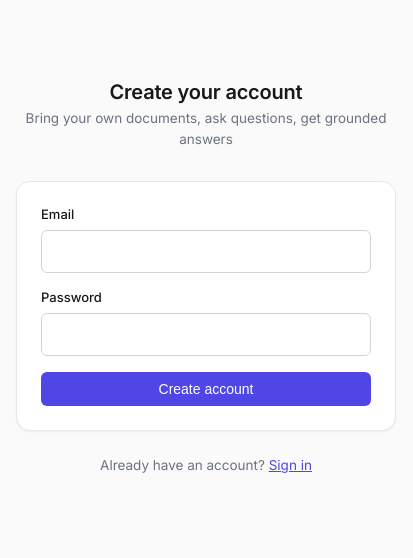
Test: RegisterPage › blocks submission and shows an error for a password that fails the complexity rules
This screenshot has width=413, height=558.
Type "user@example.com" into the field labelled "Email". click: (206, 252)
box: [41,230,371,274]
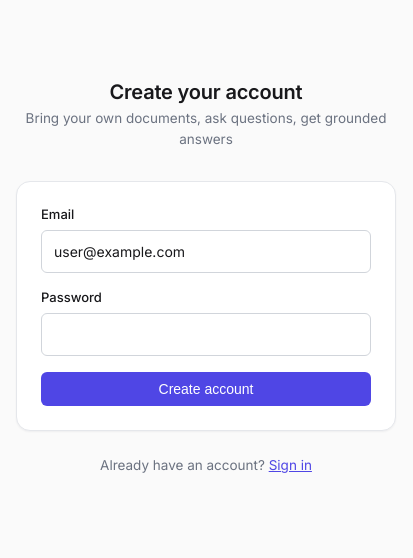
Type "weak" into the password field labelled "Password". click: (206, 335)
box: [41,314,371,356]
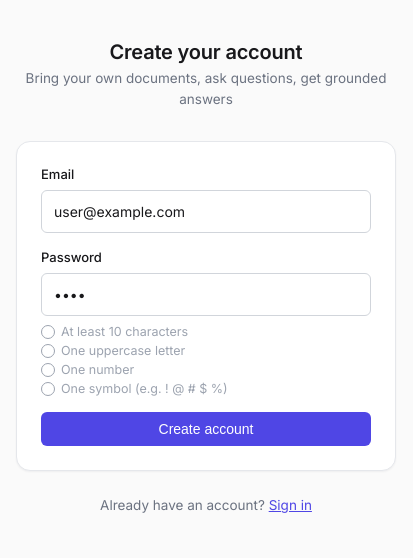
Click the button "Create account". click: click(206, 430)
box: [41,412,371,446]
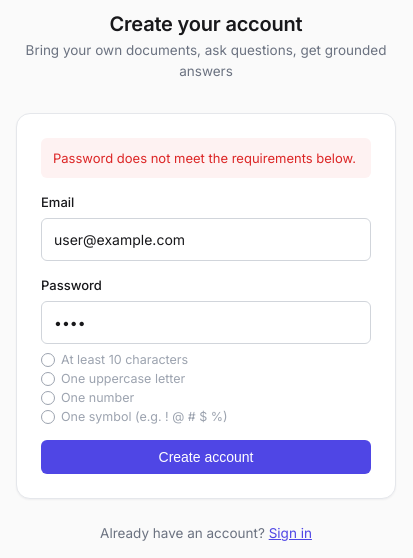
Check: the text "Password does not meet the requirements below." is shown, box [41,138,371,178]
